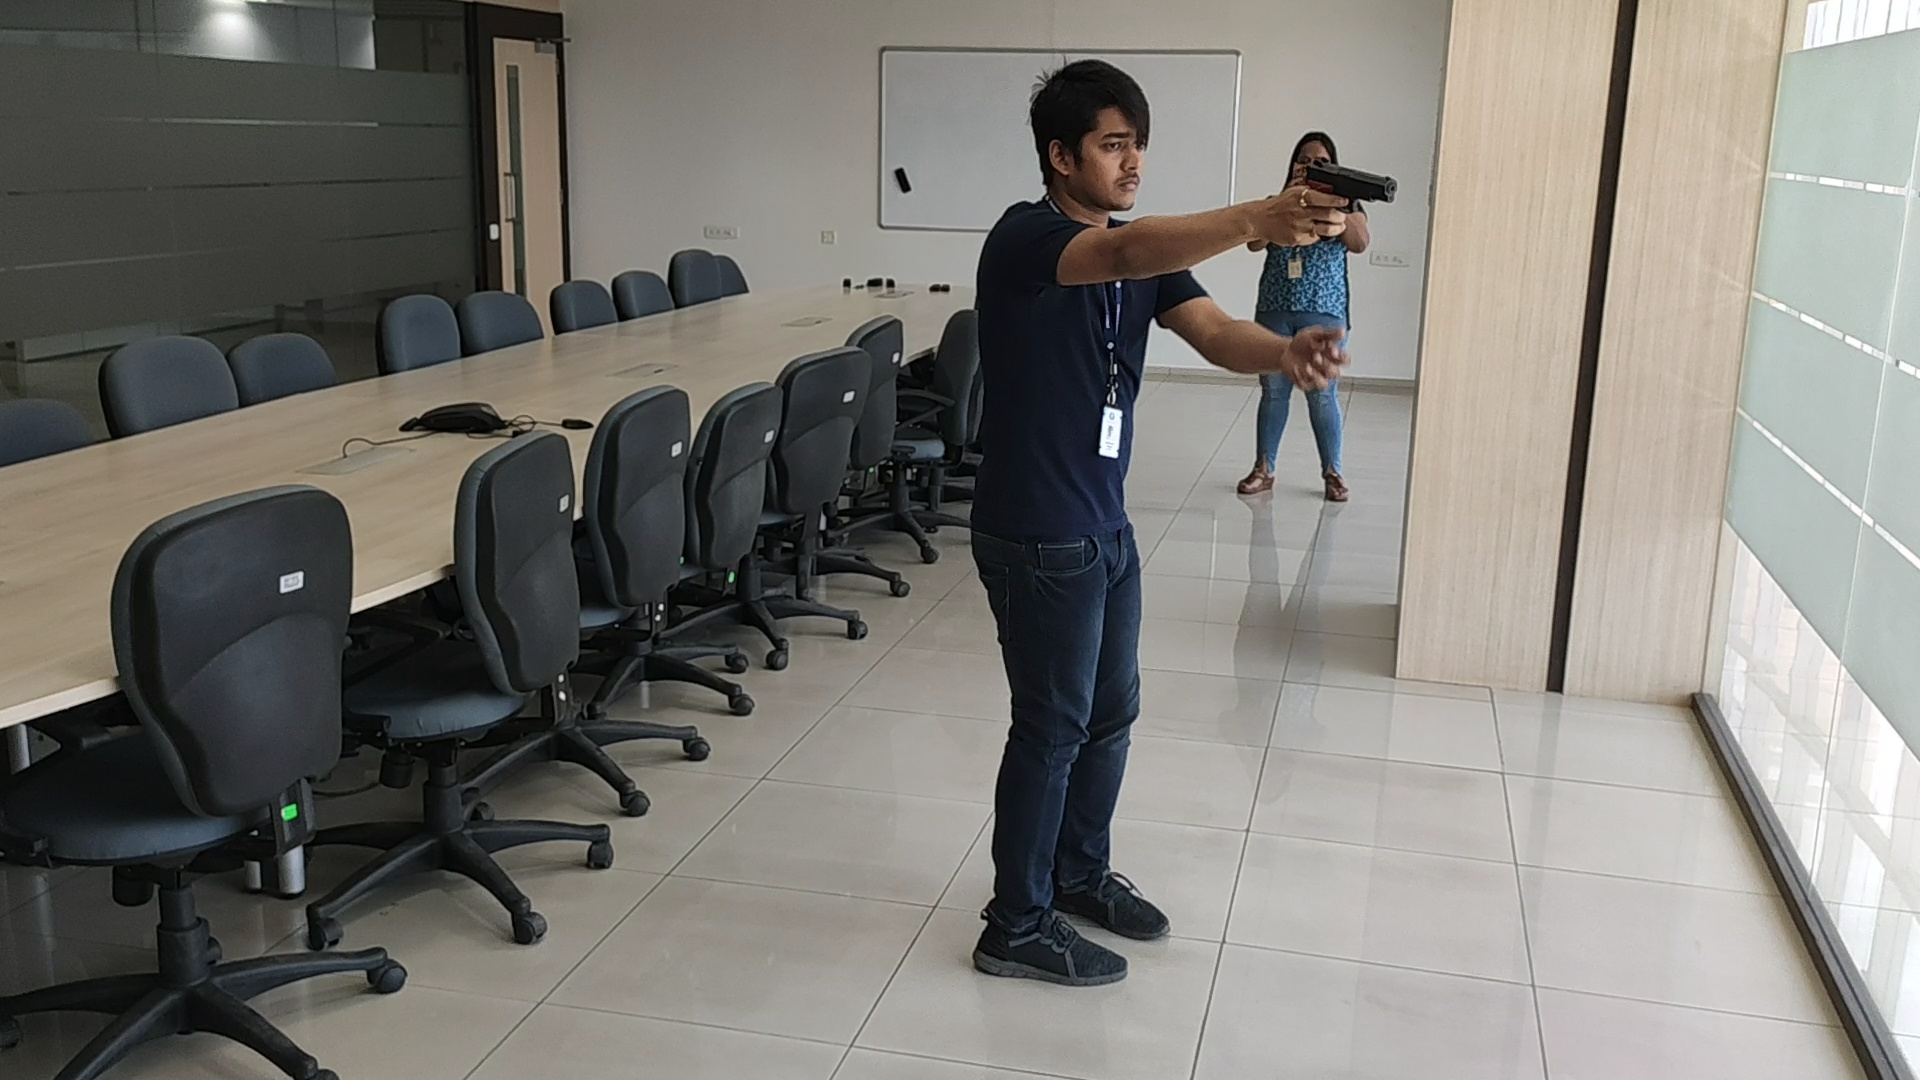gun: (1308, 157, 1396, 214)
